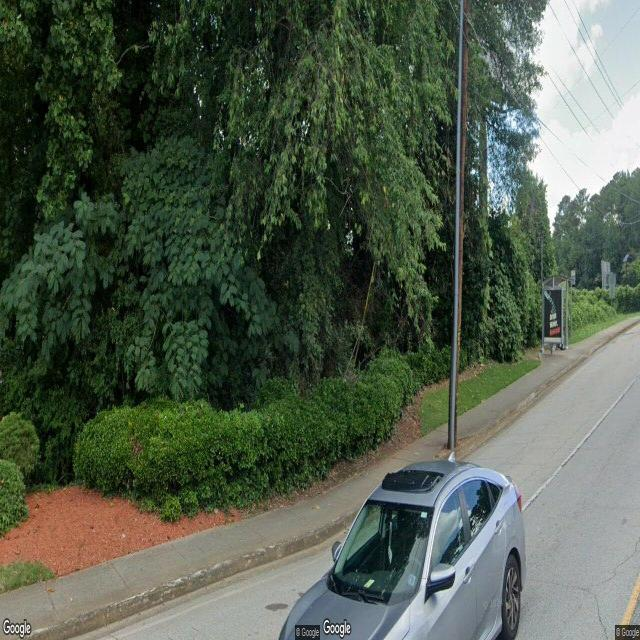shelter: (542, 276, 574, 354)
